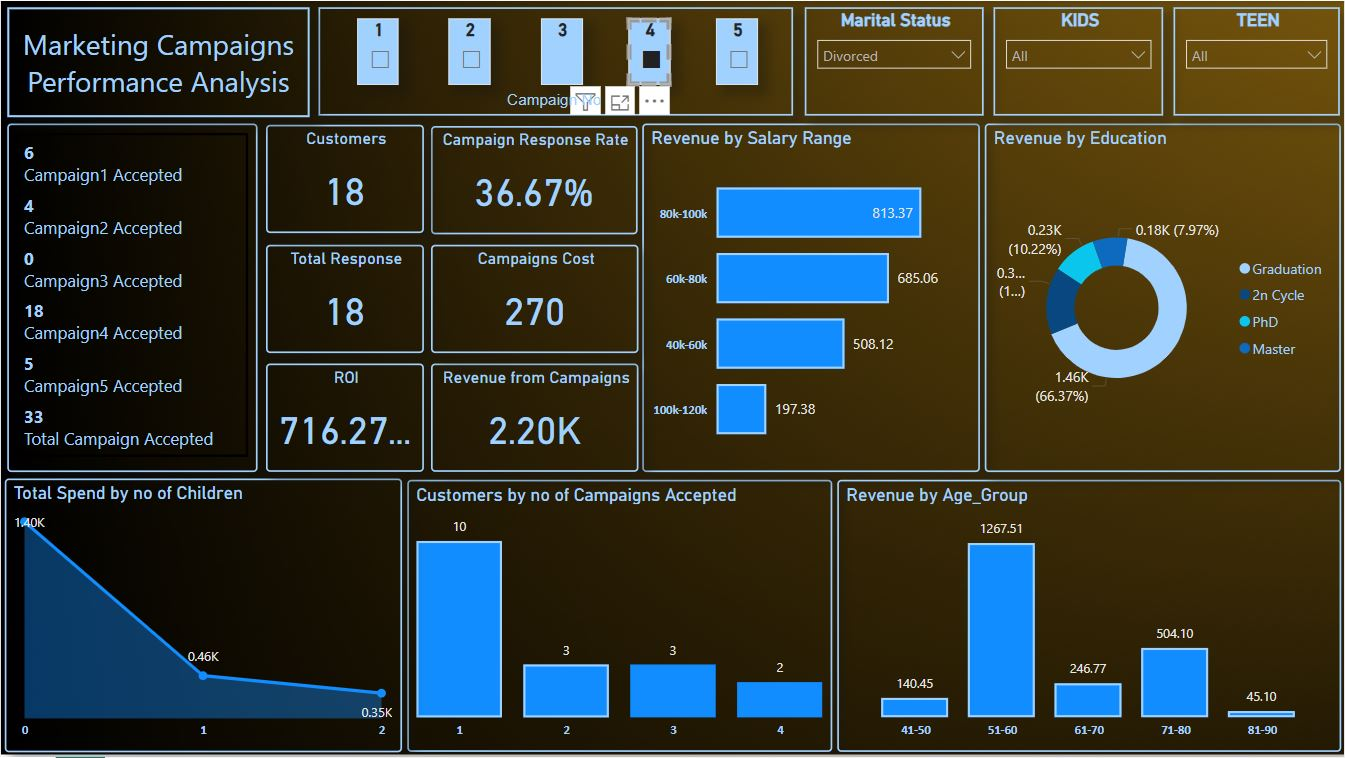

The dashboard page shown, as its layout file describes it:
{"tool":"powerbi","page":{"name":"Page 1","canvas":[1280,720],"ordinal":0},"visuals":[{"type":"shape","box":[302.4,6,452.4,103.6],"z":0},{"type":"columnChart","title":"Customers by no of Campaigns Accepted","fields":{"Category":["Marketing_campaign_week6.Campaigns_Accepted"],"Y":["CountNonNull(Marketing_campaign_week6.ID)"]},"box":[386.9,456,404.8,259.5],"z":1000},{"type":"multiRowCard","fields":{"Values":["Sum(Marketing_campaign_week6.AcceptedCmp1)","Sum(Marketing_campaign_week6.AcceptedCmp2)","Sum(Marketing_campaign_week6.AcceptedCmp3)","Sum(Marketing_campaign_week6.AcceptedCmp4)","Sum(Marketing_campaign_week6.AcceptedCmp5)","Sum(Marketing_campaign_week6.Campaigns_Accepted)"]},"box":[6,116.7,238,332.1],"z":2000},{"type":"card","title":"Campaign Response Rate","fields":{"Values":["Avg(Marketing_campaign_week6.Campaign_ResponseRate)"]},"box":[409.5,119,196.4,103.6],"z":3000},{"type":"card","title":"Total Response","fields":{"Values":["Sum(Marketing_campaign_week6.Is_Responsive)"]},"box":[252.4,232.1,150,103.6],"z":4000},{"type":"clusteredBarChart","title":"Revenue by Salary Range","fields":{"Category":["Marketing_campaign_week6.salary range"],"Y":["Sum(Marketing_campaign_week6.Possible_revenue)"]},"box":[610.7,116.7,321.4,332.1],"z":5000},{"type":"lineChart","title":"Total Spend by no of Children","fields":{"Y":["Sum(Marketing_campaign_week6.Possible_revenue)"],"Category":["Marketing_campaign_week6.Total_Children"]},"box":[4.1,454.2,378,260.7],"z":6000},{"type":"card","title":"Customers","fields":{"Values":["CountNonNull(Marketing_campaign_week6.ID)"]},"box":[252.4,117.9,150,103],"z":7000},{"type":"card","title":"ROI","fields":{"Values":["Marketing_campaign_week6.ROI"]},"box":[252.4,345.2,150,103.6],"z":8000},{"type":"card","title":"Revenue from Campaigns","fields":{"Values":["Sum(Marketing_campaign_week6.Possible_revenue)"]},"box":[409.5,345.2,197.6,103.6],"z":9000},{"type":"slicer","title":"1","fields":{"Values":["Marketing_campaign_week6.AcceptedCmp1"]},"box":[339.3,16.7,39.3,63.1],"z":10000},{"type":"slicer","title":"2","fields":{"Values":["Marketing_campaign_week6.AcceptedCmp2"]},"box":[426.6,16.7,39.8,63.1],"z":11000},{"type":"slicer","title":"3","fields":{"Values":["Marketing_campaign_week6.AcceptedCmp3"]},"box":[514.7,16.7,39.8,63.1],"z":12000},{"type":"slicer","title":"4","fields":{"Values":["Marketing_campaign_week6.AcceptedCmp4"]},"box":[597.8,16.7,39.8,63.1],"z":13000},{"type":"slicer","title":"5","fields":{"Values":["Marketing_campaign_week6.AcceptedCmp5"]},"box":[680.9,16.7,39.8,63.1],"z":14000},{"type":"textbox","box":[446.4,79.8,160.7,31],"z":15000},{"type":"card","title":"Campaigns Cost","fields":{"Values":["Sum(Marketing_campaign_week6.Camp_cost)"]},"box":[409.5,232.1,197.6,103.6],"z":16000},{"type":"slicer","title":"Marital Status","fields":{"Values":["Marketing_campaign_week6.Marital_Status"]},"box":[765.5,6,170.2,103.6],"z":17000},{"type":"columnChart","title":"Revenue by Age_Group","fields":{"Category":["Marketing_campaign_week6.Age_Group"],"Y":["Sum(Marketing_campaign_week6.Possible_revenue)"]},"box":[795.9,455.6,480.3,259.3],"z":18000},{"type":"donutChart","title":"Revenue by Education","fields":{"Category":["Marketing_campaign_week6.Education"],"Y":["Sum(Marketing_campaign_week6.Possible_revenue)"]},"box":[936.9,116.7,339.3,332.1],"z":19000},{"type":"slicer","title":"KIDS","fields":{"Values":["Marketing_campaign_week6.Kidhome"]},"box":[945.2,6,161.9,103.6],"z":20000},{"type":"slicer","title":"TEEN","fields":{"Values":["Marketing_campaign_week6.Teenhome"]},"box":[1116.7,6,158.3,103.6],"z":21000},{"type":"shape","box":[6,6,288.1,104.8],"z":22000}]}

Visuals, with their boxes in screenshot pixels (x1, y1, x2, y2), scaled from the page's 1280x720 canvas onto the 1345x758 screenshot:
shape: [left=318, top=6, right=793, bottom=115]
"Customers by no of Campaigns Accepted" columnChart: [left=407, top=480, right=832, bottom=753]
multiRowCard - Sum(Marketing_campaign_week6.AcceptedCmp1) x Sum(Marketing_campaign_week6.AcceptedCmp2): [left=6, top=123, right=256, bottom=472]
"Campaign Response Rate" card: [left=430, top=125, right=637, bottom=234]
"Total Response" card: [left=265, top=244, right=423, bottom=353]
"Revenue by Salary Range" clusteredBarChart: [left=642, top=123, right=979, bottom=472]
"Total Spend by no of Children" lineChart: [left=4, top=478, right=402, bottom=753]
"Customers" card: [left=265, top=124, right=423, bottom=233]
"ROI" card: [left=265, top=363, right=423, bottom=472]
"Revenue from Campaigns" card: [left=430, top=363, right=638, bottom=472]
"1" slicer: [left=357, top=18, right=398, bottom=84]
"2" slicer: [left=448, top=18, right=490, bottom=84]
"3" slicer: [left=541, top=18, right=583, bottom=84]
"4" slicer: [left=628, top=18, right=670, bottom=84]
"5" slicer: [left=715, top=18, right=757, bottom=84]
textbox: [left=469, top=84, right=638, bottom=117]
"Campaigns Cost" card: [left=430, top=244, right=638, bottom=353]
"Marital Status" slicer: [left=804, top=6, right=983, bottom=115]
"Revenue by Age_Group" columnChart: [left=836, top=480, right=1341, bottom=753]
"Revenue by Education" donutChart: [left=984, top=123, right=1341, bottom=472]
"KIDS" slicer: [left=993, top=6, right=1163, bottom=115]
"TEEN" slicer: [left=1173, top=6, right=1340, bottom=115]
shape: [left=6, top=6, right=309, bottom=117]
